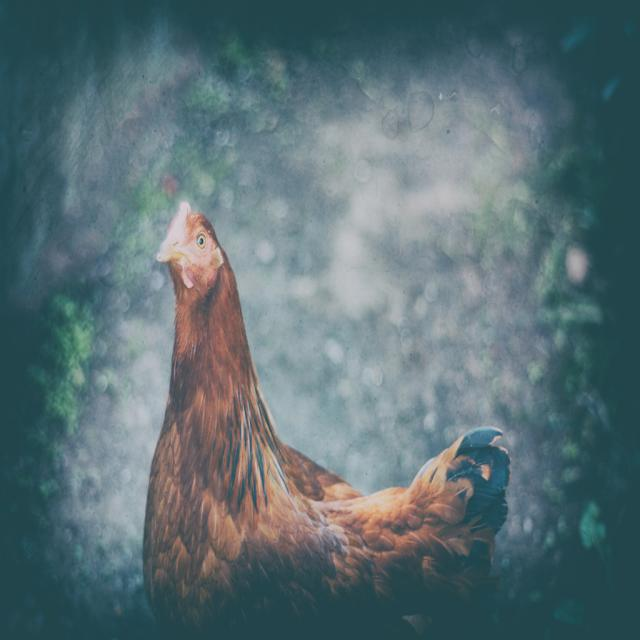Chicken: (150, 210, 508, 638)
